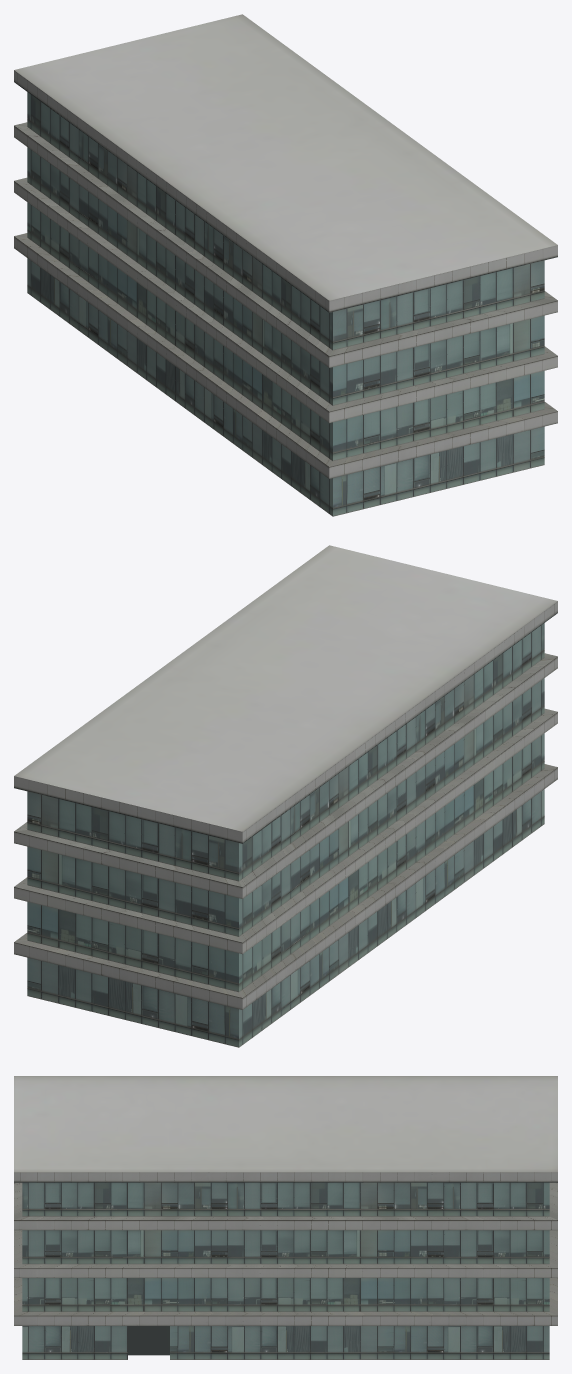
Rendered from OfficeBuilding2.fbx.
3 views of the same model, one above another, from view 1: azimuth 30°, elevation 25°; view 2: azimuth 150°, elevation 25°; view 3: azimuth 270°, elevation 25° (orthographic). The views are drawn at different scales.
Visible parts, largest first — view 1: Cube; view 2: Cube; view 3: Cube.
Part boxes in pixels (x1,y1,x2,y2): Cube: (14,14,557,516); Cube: (14,545,557,1047); Cube: (14,1076,557,1359).
Size of the model in its own units: 2160 by 2000 by 5160.
